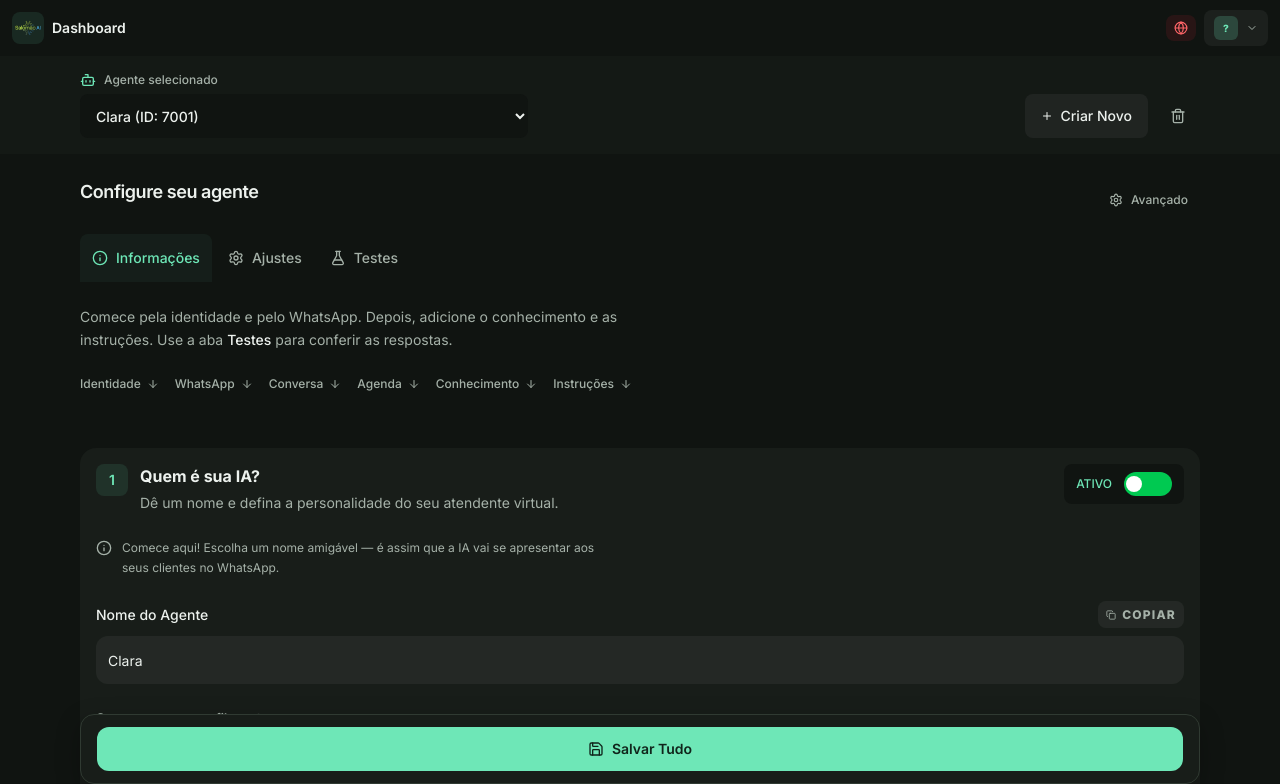
Test case: Agente IA — regressão do refinamento visual › mantém as seis seções, orientação, navegação e dados editados entre abas
Expected: the dropdown labelled "Agente selecionado" is shown, [80,94,528,138]
Expected: the element named "Guia de configuração" is shown, [80,308,632,390]
Step 1. Replace the text in the field labelled "Nome do Agente" with "Clara atualizada" → (640, 660), box [96,636,1184,684]
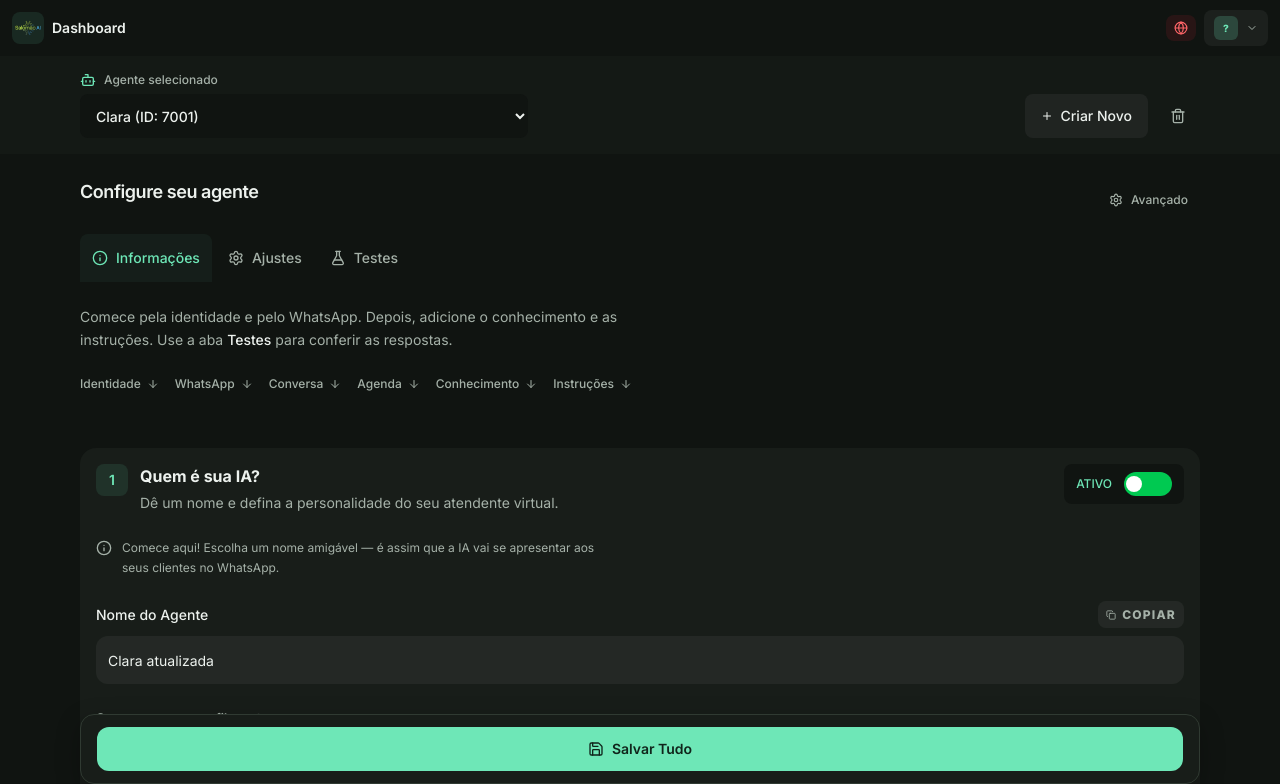
Step 2. Click the button "Ajustes" → (265, 258), box [216,234,314,282]
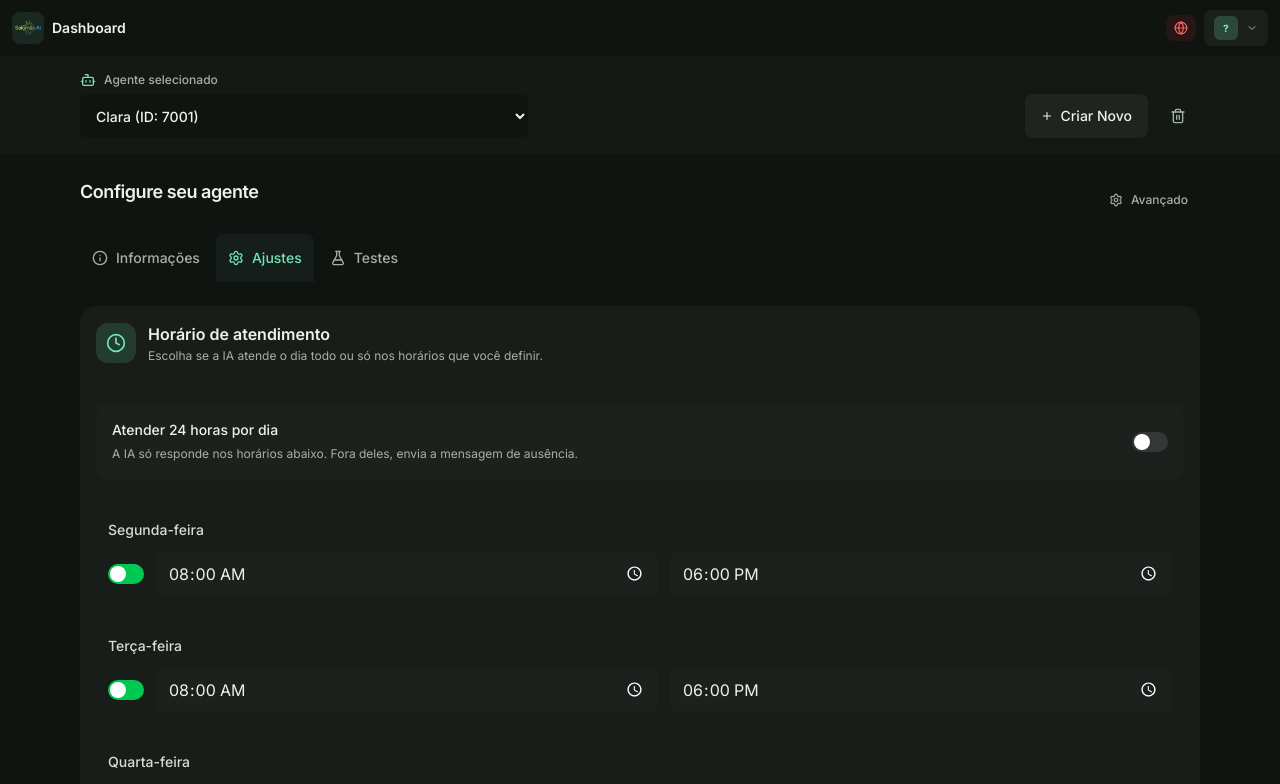
Step 3. Click the button "Informações" → (146, 258), box [80,234,212,282]
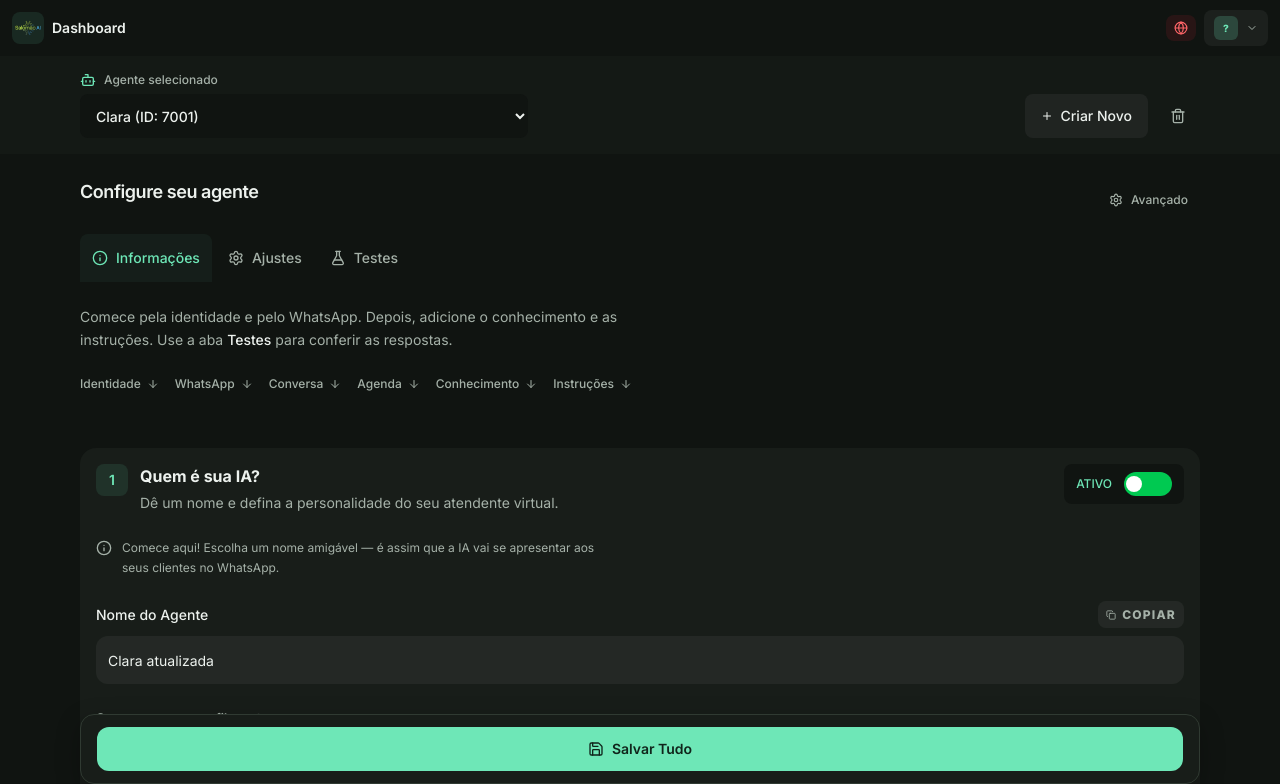
Now the field showing "Clara atualizada" is shown, box [96,636,1184,684]
